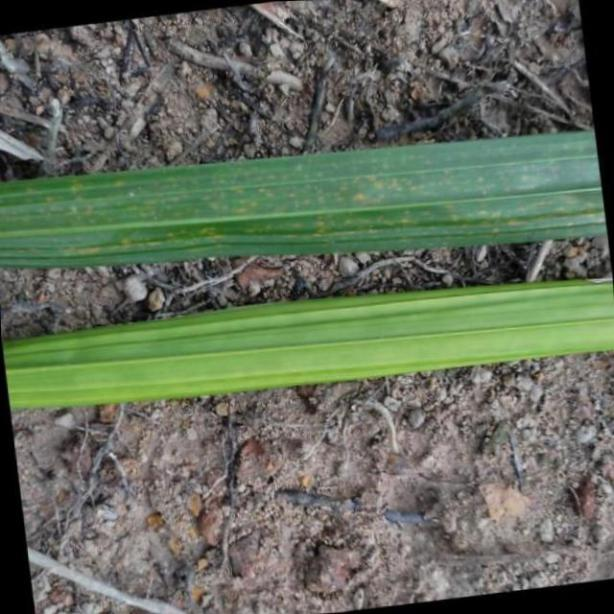nitrogen: (0, 272, 614, 408)
